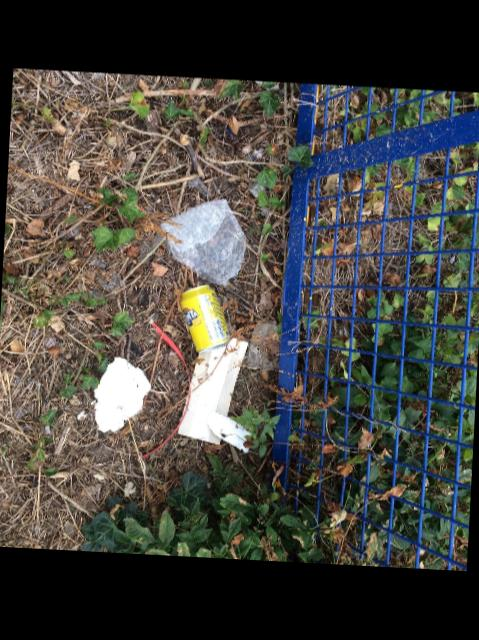metal: (179, 286, 229, 352)
